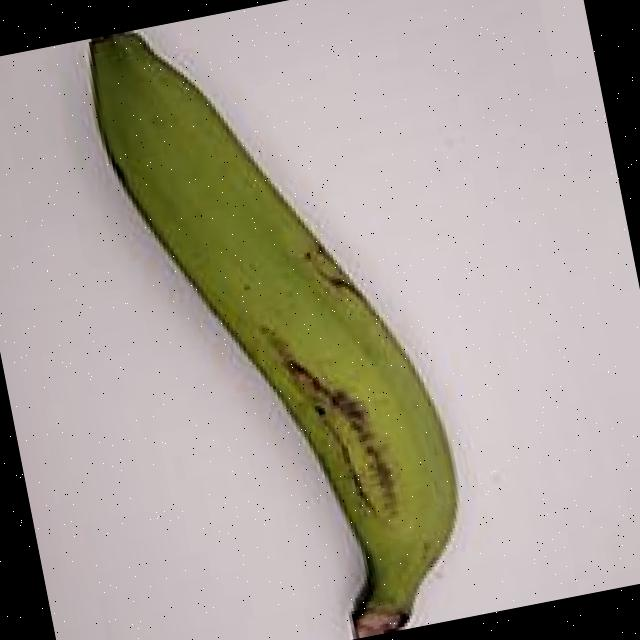Raw: (39, 0, 512, 640)
